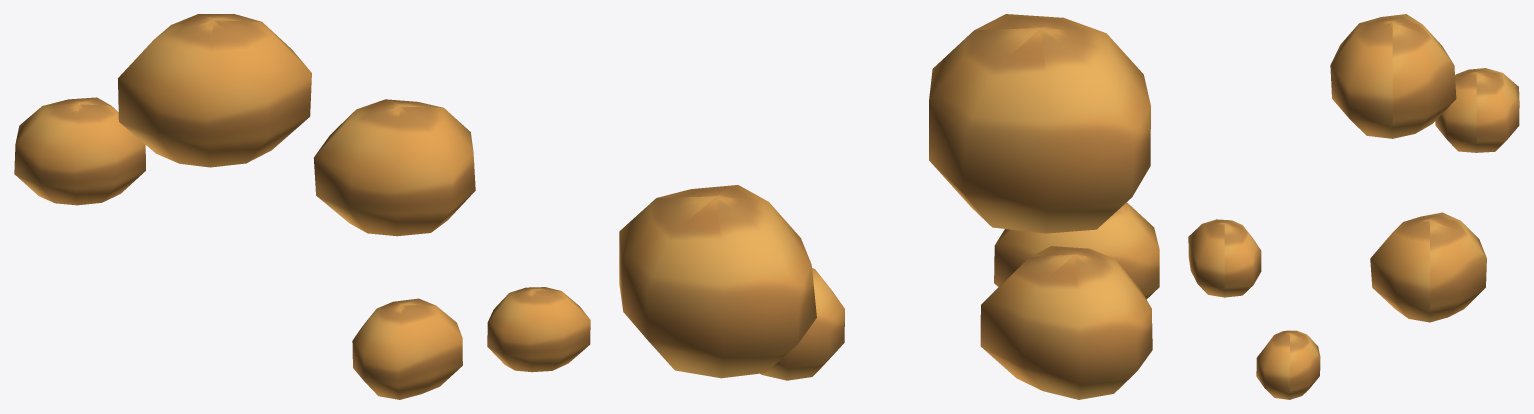
Rendered from SD_FX02_StoneImpact.fbx.
The picture shows the model from 3 angles, left to right: view 1: azimuth 30°, elevation 25°; view 2: azimuth 150°, elevation 25°; view 3: azimuth 270°, elevation 25°; orthographic projection. The views are drawn at different scales.
Parts seen in each view (by area): view 1: Shard_04, Shard_01, Shard_02, Shard_03, Shard_05; view 2: Shard_04, Shard_01, Shard_02, Shard_03, Shard_05; view 3: Shard_04, Shard_01, Shard_02, Shard_03, Shard_05.
Part boxes in pixels (x1,y1,x2,y2): Shard_04: (118,14,311,167); Shard_01: (314,99,475,236); Shard_02: (14,97,145,205); Shard_03: (352,298,462,399); Shard_05: (487,287,590,372); Shard_04: (929,14,1150,233); Shard_01: (619,185,816,378); Shard_02: (980,246,1152,399); Shard_03: (994,202,1159,299); Shard_05: (760,268,844,380); Shard_04: (1330,14,1456,138); Shard_01: (1370,212,1486,322); Shard_02: (1435,68,1519,152); Shard_03: (1188,219,1261,297); Shard_05: (1256,330,1320,399).
Size of what is drawn, in the model's own units: 0.825 by 0.656 by 0.7098.
